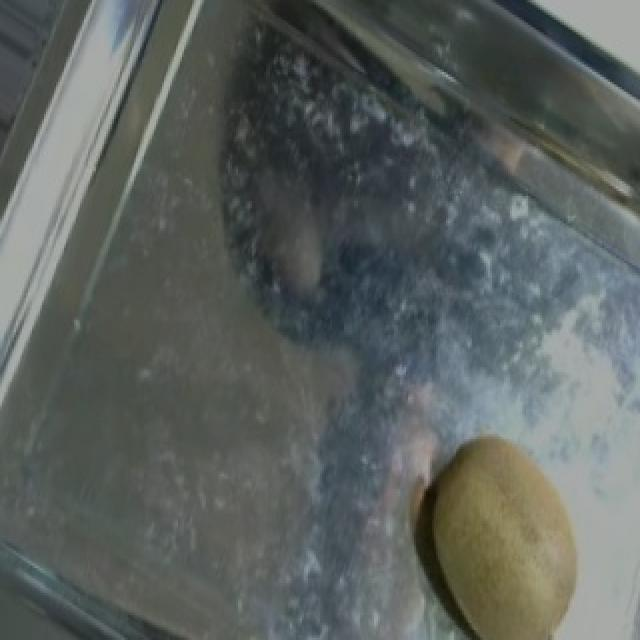Fruit: (400, 414, 608, 640)
